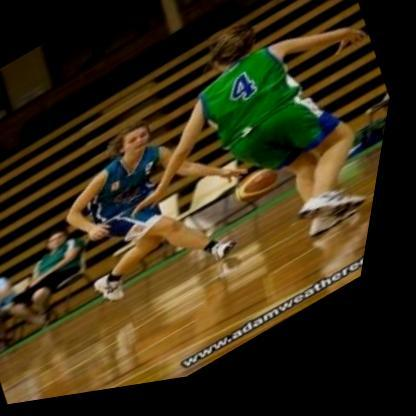basketball: (235, 164, 298, 223)
